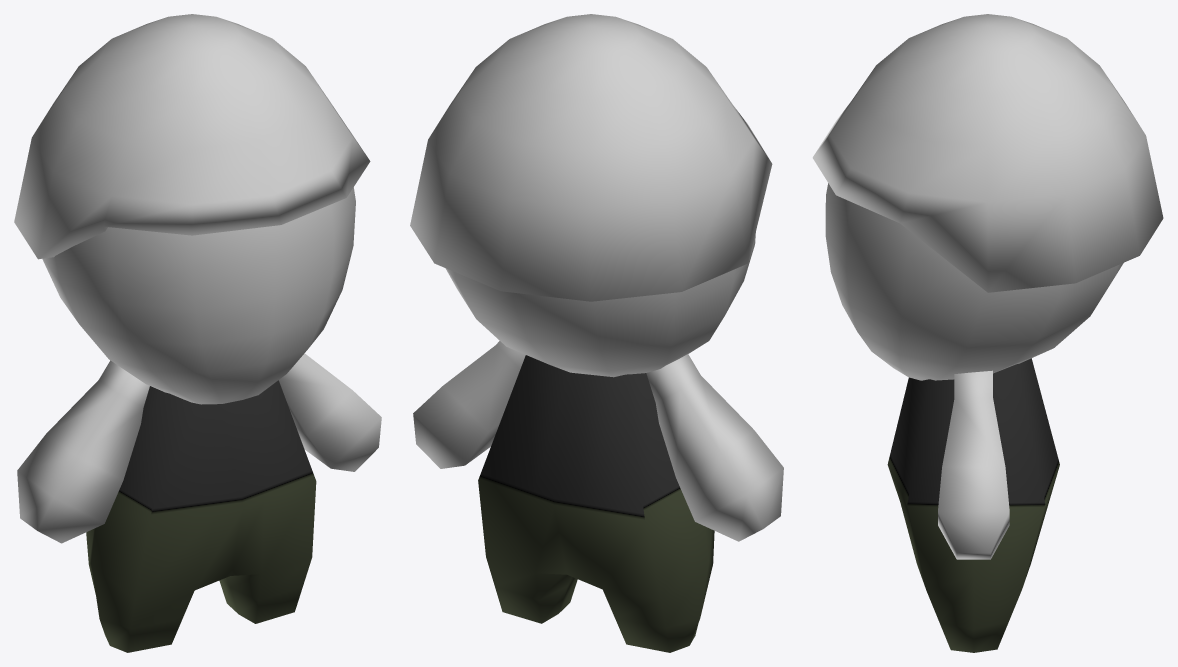
The model's file is Houman01.fbx.
3 views of the same model, side by side, from view 1: azimuth 30°, elevation 25°; view 2: azimuth 150°, elevation 25°; view 3: azimuth 270°, elevation 25° (orthographic). The views are drawn at different scales.
Visible parts, largest first — view 1: Houman; view 2: Houman; view 3: Houman.
Part boxes in pixels (bbox=[...]): Houman: bbox=[14, 14, 381, 652]; Houman: bbox=[410, 14, 783, 652]; Houman: bbox=[812, 14, 1163, 652].
Size of the model in its own units: 10.06 by 16.68 by 9.08.
